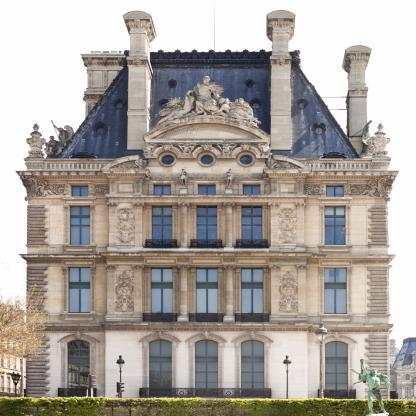Building Outline: (15, 10, 399, 416)
Cornice: (145, 120, 268, 142), (57, 331, 99, 343), (231, 331, 274, 342), (185, 331, 227, 342), (139, 331, 181, 342), (315, 333, 358, 343), (321, 180, 349, 184), (66, 180, 93, 184)
Deco: (152, 76, 262, 129), (142, 142, 271, 156), (344, 175, 396, 202), (19, 175, 71, 201), (43, 119, 75, 158), (369, 122, 392, 171), (23, 123, 46, 170), (279, 271, 298, 313), (115, 271, 134, 312), (117, 208, 135, 243), (279, 208, 297, 243), (273, 159, 304, 169), (178, 168, 189, 194), (109, 160, 139, 169), (304, 184, 327, 195), (224, 169, 234, 194), (88, 184, 110, 195), (126, 57, 148, 65), (270, 57, 292, 64), (349, 88, 368, 94)
Facade: (27, 159, 388, 416)
Floor: (27, 178, 388, 262), (27, 262, 389, 332)
Floor Slab: (27, 328, 390, 332), (27, 258, 390, 262), (27, 174, 390, 178), (27, 380, 390, 383)
Ground Floor: (27, 332, 389, 416)
Molding: (26, 324, 390, 332), (24, 256, 391, 263), (28, 198, 387, 205), (148, 159, 266, 162)
Pillar: (222, 264, 236, 322), (177, 264, 190, 322), (104, 264, 118, 317), (131, 264, 144, 317), (269, 265, 282, 317), (295, 265, 308, 317), (294, 202, 307, 249), (178, 202, 190, 248), (223, 202, 235, 248), (132, 202, 144, 248), (106, 202, 118, 248), (268, 202, 280, 248)
Roof: (67, 67, 354, 158)
Sill: (317, 314, 355, 317), (317, 197, 354, 200), (60, 313, 97, 316), (318, 245, 353, 248), (62, 244, 97, 247), (61, 197, 97, 199)
Top Floor: (58, 66, 358, 178)
Window: (325, 341, 348, 398), (67, 339, 90, 396), (149, 339, 172, 396), (195, 339, 218, 396), (241, 339, 264, 396), (241, 267, 263, 322), (151, 267, 173, 322), (196, 267, 218, 322), (324, 268, 347, 314), (68, 266, 90, 313), (242, 206, 263, 249), (152, 205, 172, 248), (197, 205, 217, 248), (69, 205, 90, 245), (325, 205, 345, 245), (71, 184, 88, 197), (327, 185, 344, 197), (154, 184, 171, 194), (199, 184, 216, 194), (243, 184, 260, 194)
dont: (0, 396, 416, 416), (347, 357, 392, 416), (314, 322, 329, 398), (115, 355, 126, 398), (282, 355, 292, 399), (114, 382, 125, 398)
